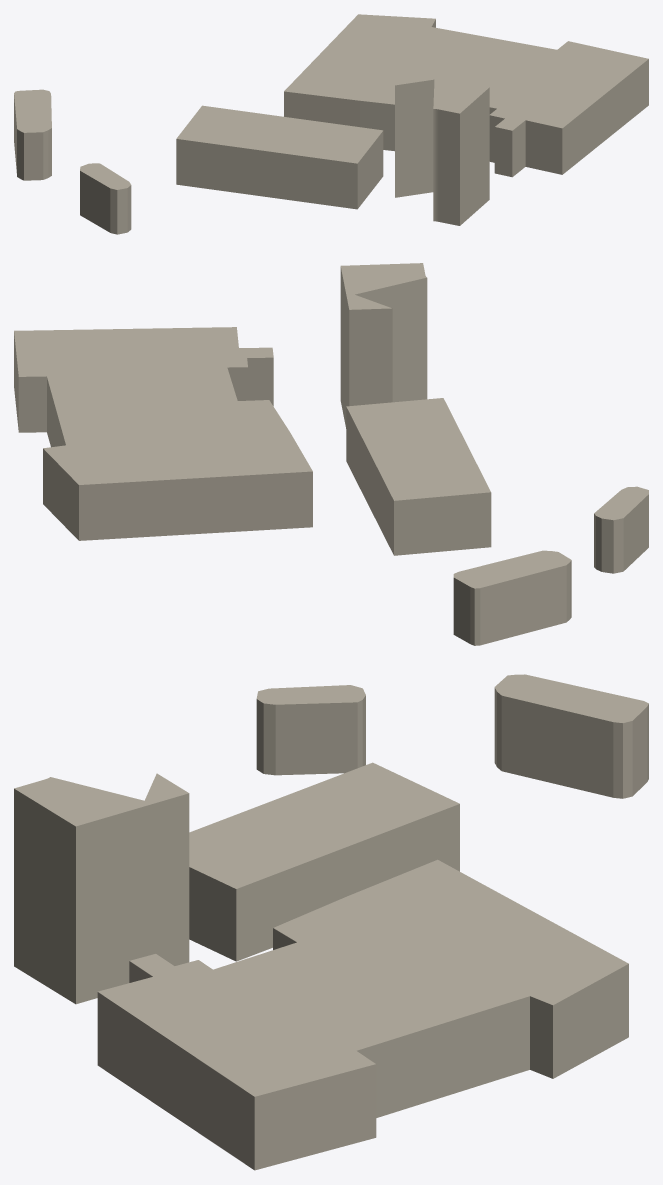
The model's file is birgu_61_23_far.glb.
The picture shows the model from 3 angles, top to bottom: view 1: azimuth 30°, elevation 25°; view 2: azimuth 150°, elevation 25°; view 3: azimuth 270°, elevation 25°; orthographic projection. The views are drawn at different scales.
Visible parts, largest first — view 1: geometry_0; view 2: geometry_0; view 3: geometry_0.
Boxes of the visible parts, box(x1,y1,x2,y2) form: geometry_0: box(14, 14, 648, 234); geometry_0: box(14, 263, 648, 645); geometry_0: box(14, 674, 648, 1170).
Bounding box in the file's own units: 130 × 25.69 × 82.72.
